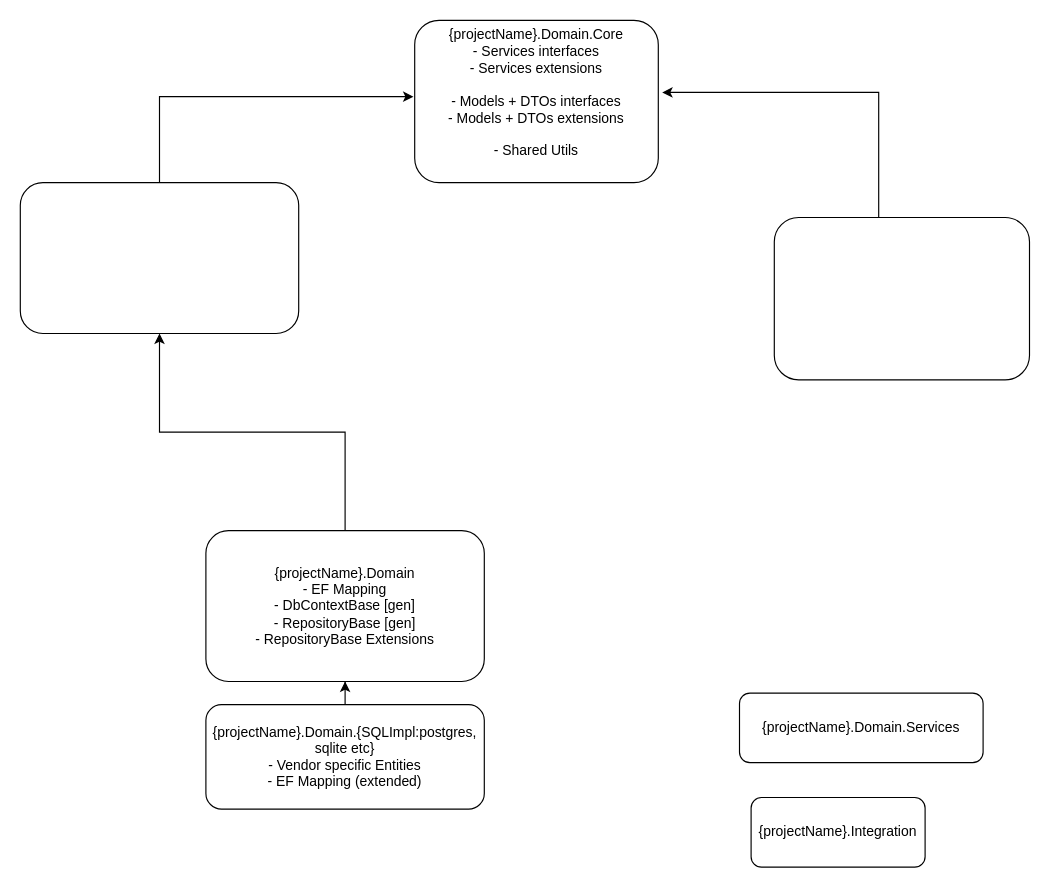
Image size: 1050x887. Some labels were removed from this diagram. The centre of each missing label's shape, as x and y in pixels:
"{projectName}.ApiClient" belongs at point (901, 298).
"{projectName}.Domain.Entities - Entity Extensions - DTO:Entity mappings" belongs at point (159, 258).
